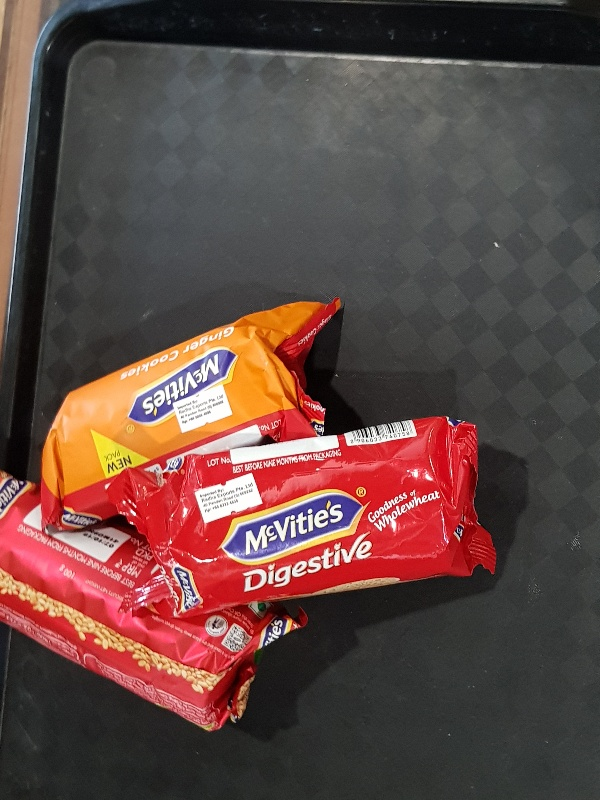McVitie's Ginger Cookies: (39, 296, 342, 533)
McVitie's Wholewheat Marie: (1, 469, 307, 733)
Mcvitie's Digestive: (112, 414, 497, 618)
